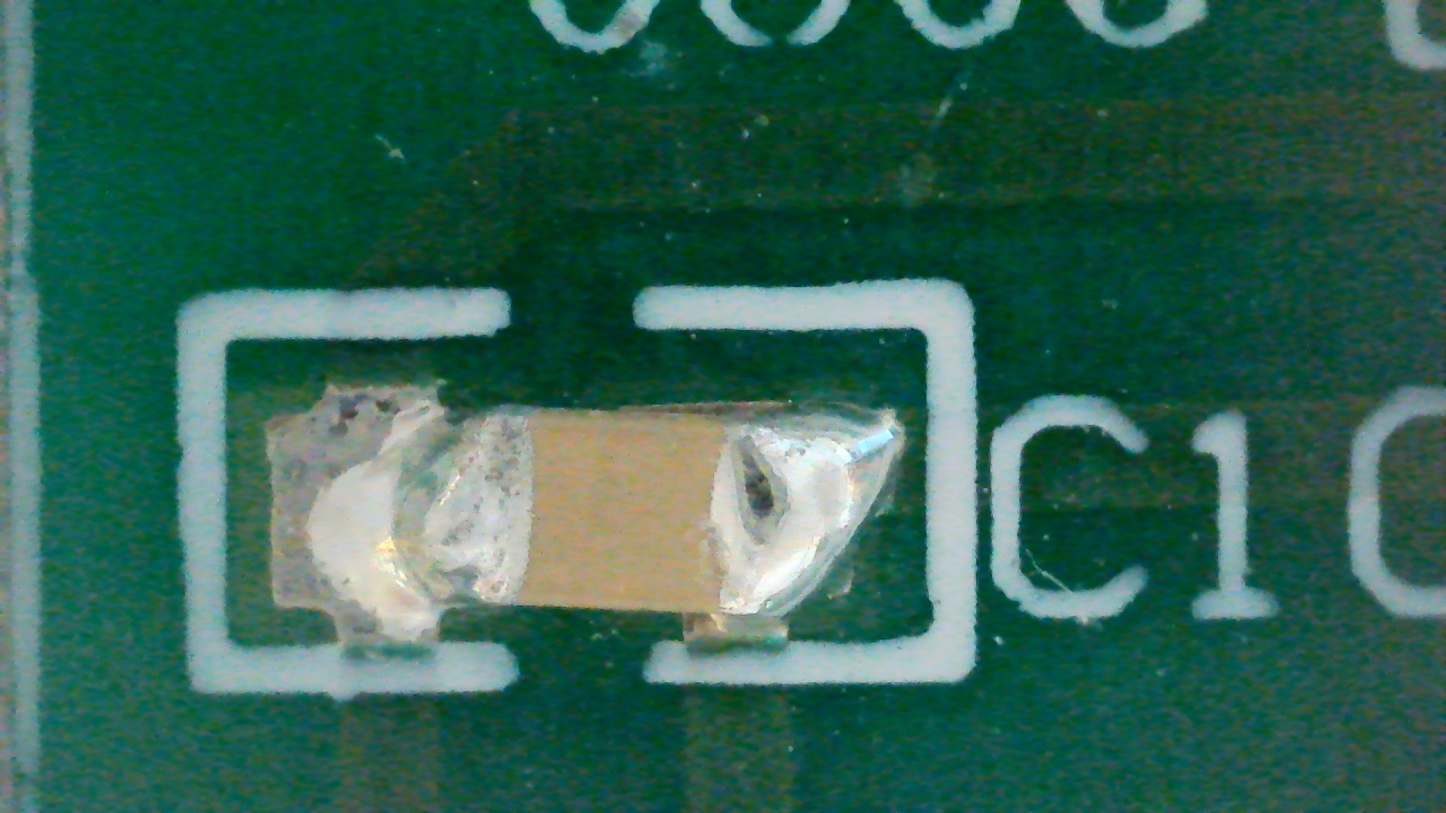OK: (263, 384, 902, 652)
